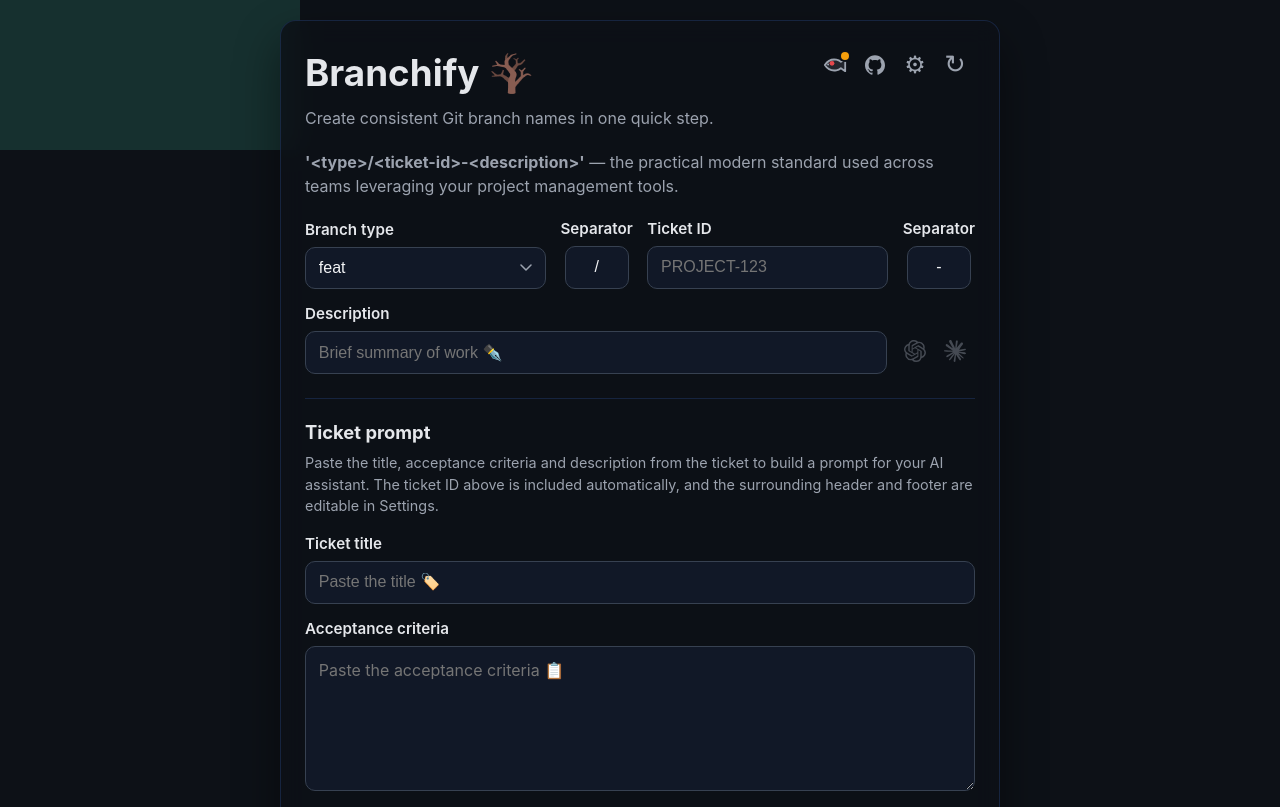
App › ticket prompt › clears the prompt fields on reset
Type "Some title" into the field labelled "Ticket title" at [640, 582], box [305,561,975,604]
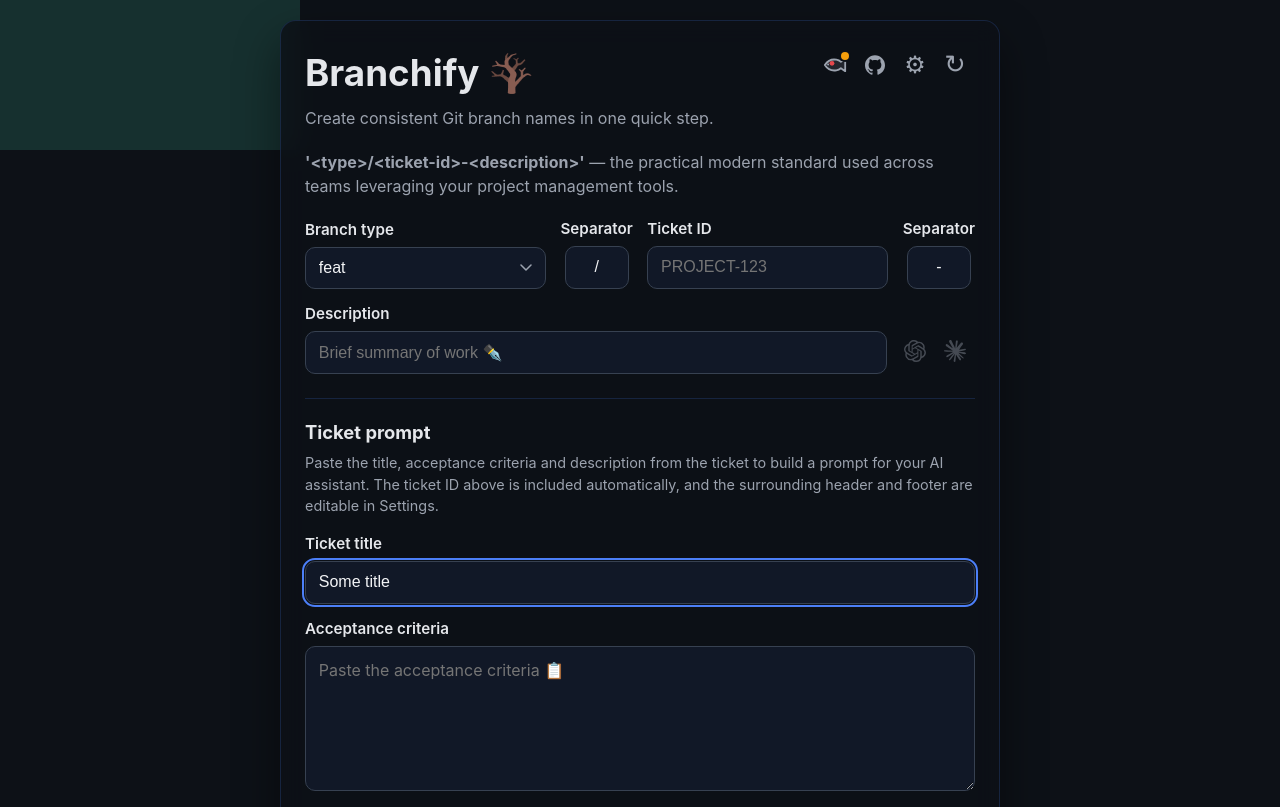
Type "Some criteria" into the text box labelled "Acceptance criteria" at [640, 718], box [305,646,975,791]
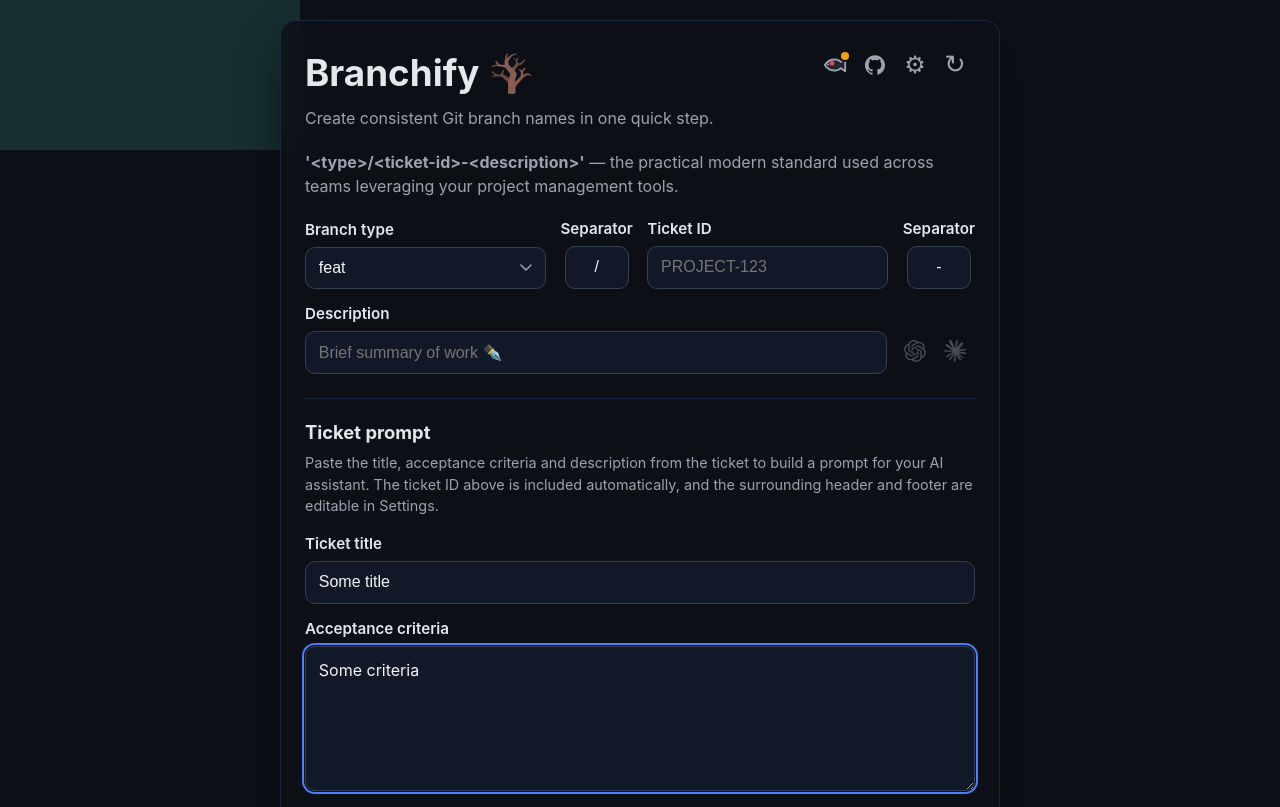
Click the button named "Reset form" at [955, 65], box [935,45,975,85]
(page scrolled)
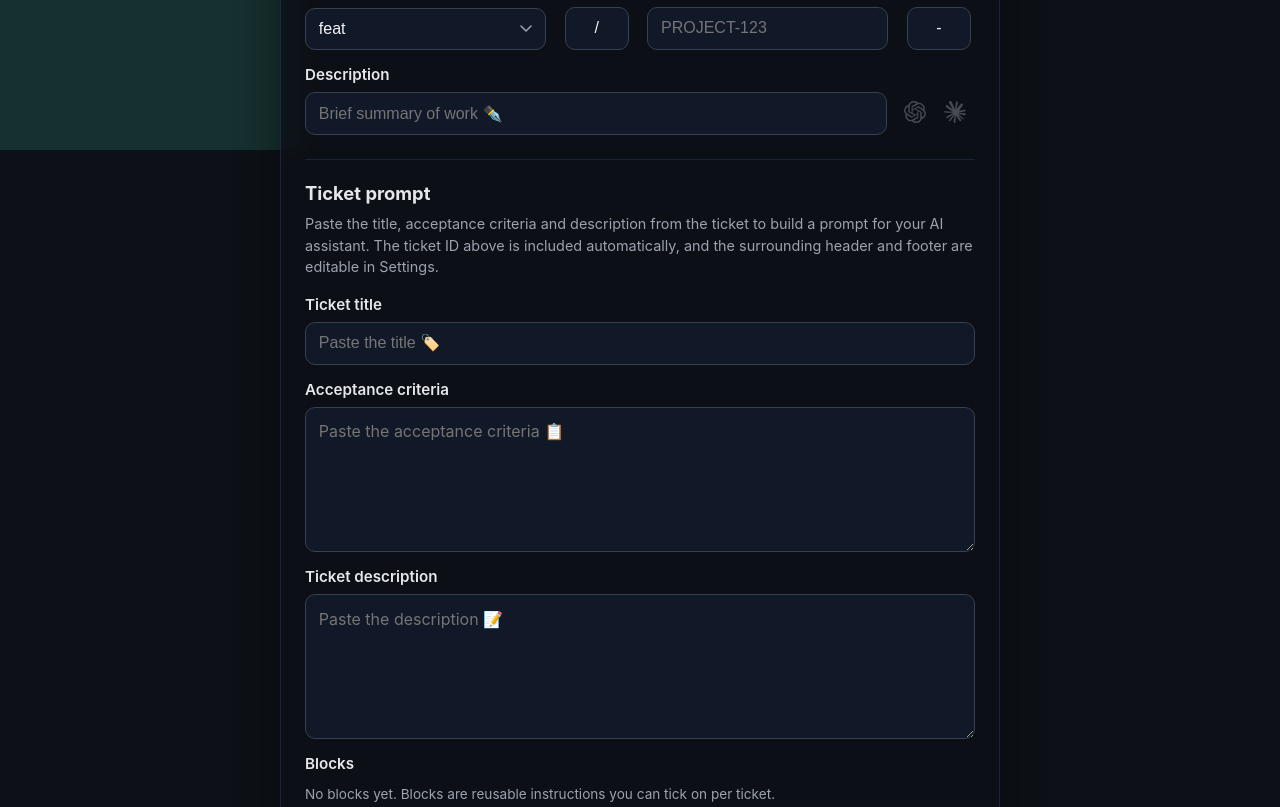
Check: the text box labelled "Ticket description" is empty, box [305,594,975,739]
Check: the field labelled "Ticket title" is empty, box [305,322,975,364]
Check: the text box labelled "Acceptance criteria" is empty, box [305,407,975,552]
